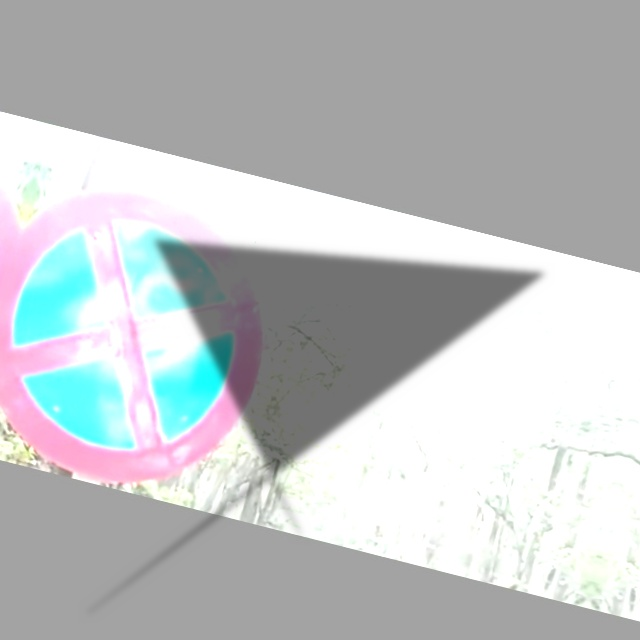No_Stopping_or_Standing: (1, 185, 280, 479)
